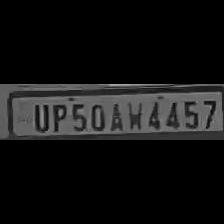0: (86, 100, 106, 130)
4: (144, 97, 162, 129), (162, 97, 180, 128)
5: (66, 99, 86, 131), (180, 97, 198, 128)
7: (200, 96, 218, 128)
A: (106, 99, 124, 131)
P: (49, 100, 67, 132)
U: (30, 100, 50, 132)
W: (124, 98, 144, 130)
